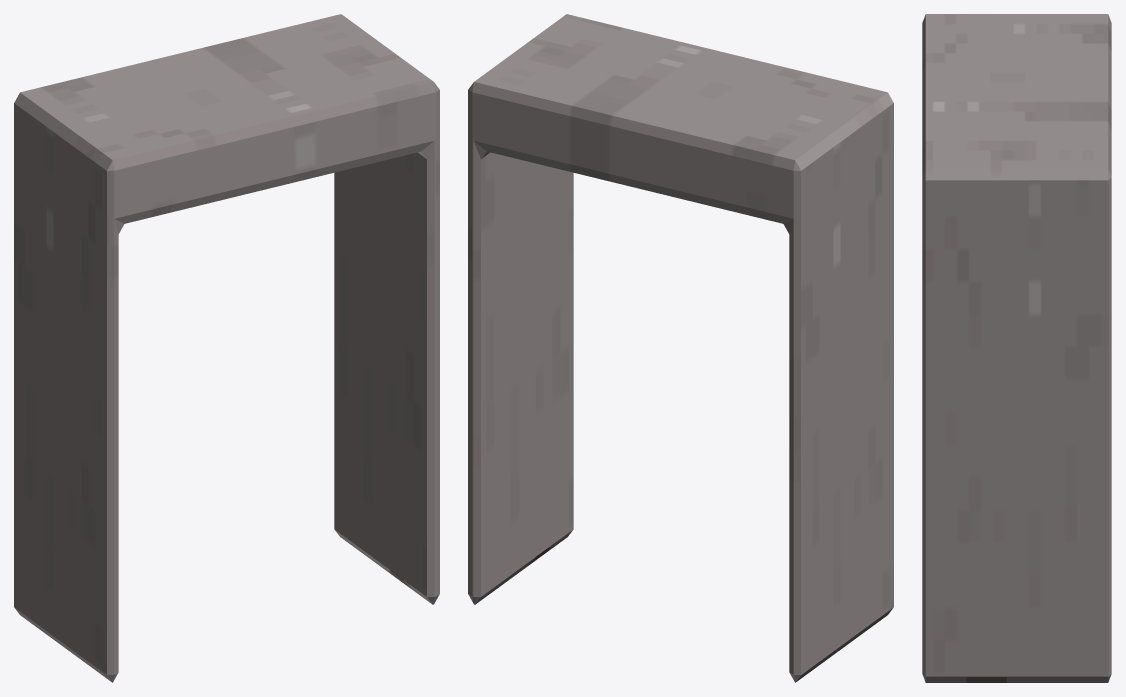
Rendered from SM_doorhole_01.fbx.
3 renders of one model, left to right at view 1: azimuth 30°, elevation 25°; view 2: azimuth 150°, elevation 25°; view 3: azimuth 270°, elevation 25°, orthographic.
Visible parts, largest first — view 1: SM_doorhole_01; view 2: SM_doorhole_01; view 3: SM_doorhole_01.
Part boxes in pixels (x1,y1,x2,y2): SM_doorhole_01: [14, 14, 439, 682]; SM_doorhole_01: [468, 14, 893, 682]; SM_doorhole_01: [922, 14, 1111, 682].
Bounding box in the file's own units: 1 × 1.5 × 0.5.
